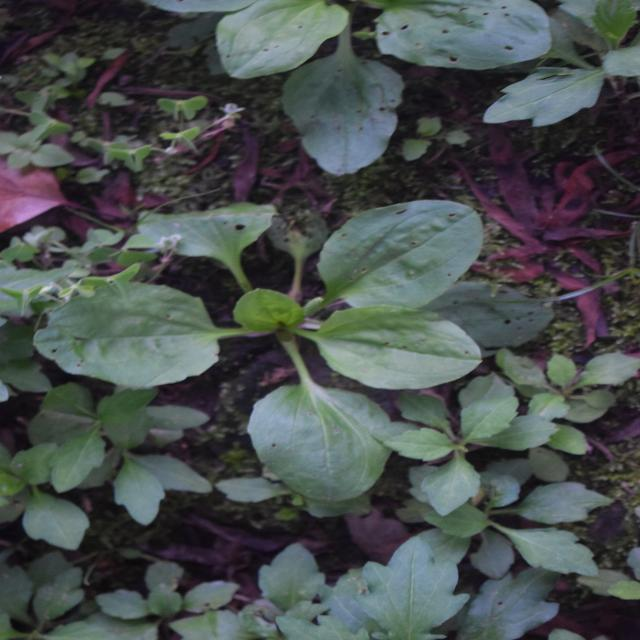plantain: (165, 90, 451, 458)
